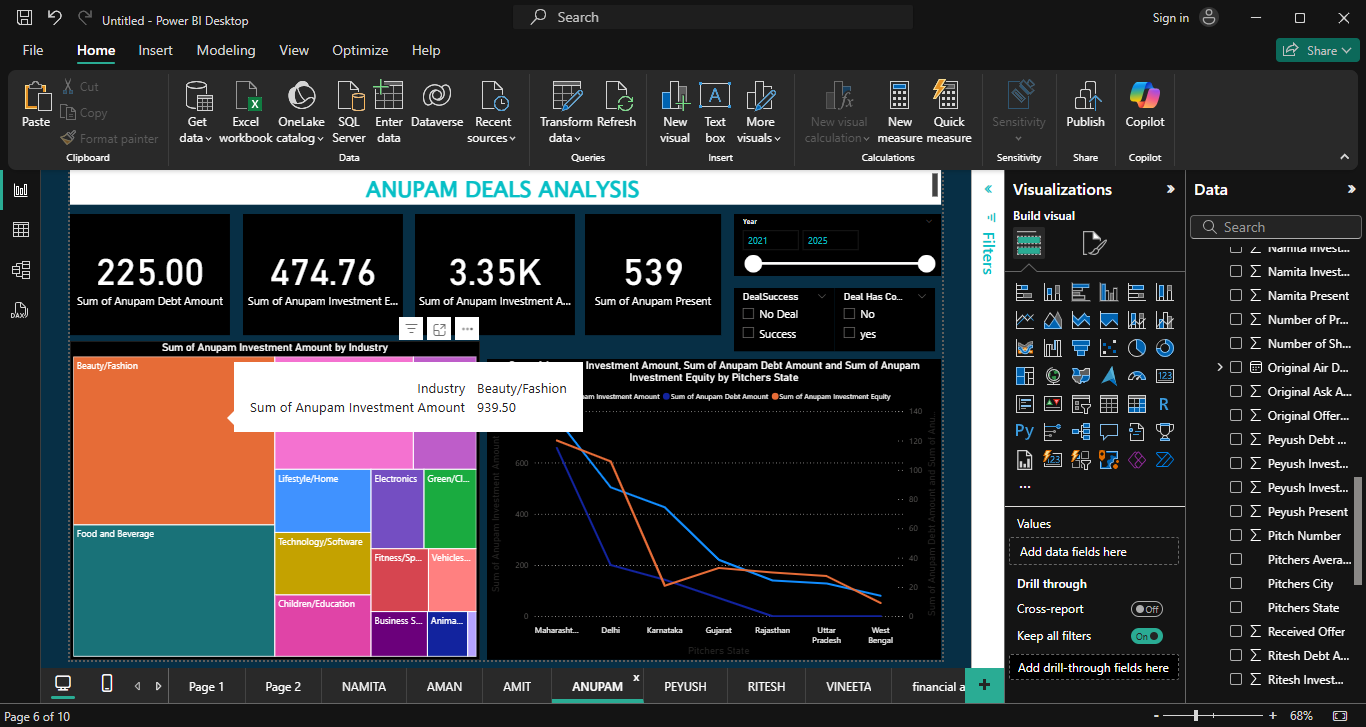

What the dashboard file says about the page in this screenshot:
{"tool":"powerbi","page":{"name":"ANUPAM","canvas":[1280,720],"ordinal":5},"visuals":[{"type":"card","fields":{"Values":["Sum(Shark_Tank_India_Cleaned.Anupam Debt Amount)"]},"box":[0,64.7,235.1,177.8],"z":0},{"type":"card","fields":{"Values":["Sum(Shark_Tank_India_Cleaned.Anupam Investment Equity)"]},"box":[254.2,64.7,235.1,177.8],"z":1000},{"type":"card","fields":{"Values":["Sum(Shark_Tank_India_Cleaned.Anupam Investment Amount)"]},"box":[506.9,64.7,235.1,177.8],"z":2000},{"type":"card","fields":{"Values":["Sum(Shark_Tank_India_Cleaned.Anupam Present)"]},"box":[756.7,64.7,199.8,177.8],"z":3000},{"type":"slicer","fields":{"Values":["Shark_Tank_India_Cleaned.Year"]},"box":[975.7,64.7,304.2,89.6],"z":4000},{"type":"textbox","box":[0,0,1279.8,51.4],"z":5000},{"type":"treemap","fields":{"Group":["Shark_Tank_India_Cleaned.Industry"],"Values":["Sum(Shark_Tank_India_Cleaned.Anupam Investment Amount)"]},"box":[0,251.3,602.4,468.7],"z":6000},{"type":"slicer","fields":{"Values":["Shark_Tank_India_Cleaned.DealSuccess"]},"box":[975.7,173.4,148.4,92.6],"z":7000},{"type":"slicer","fields":{"Values":["Shark_Tank_India_Cleaned.Deal Has Conditions"]},"box":[1124.1,173.4,146.9,92.6],"z":8000},{"type":"lineChart","fields":{"Y":["Sum(Shark_Tank_India_Cleaned.Anupam Investment Amount)"],"Y2":["Sum(Shark_Tank_India_Cleaned.Anupam Debt Amount)","Sum(Shark_Tank_India_Cleaned.Anupam Investment Equity)"],"Category":["Shark_Tank_India_Cleaned.Pitchers State"]},"box":[612.7,277.7,667.1,442.3],"z":9000}]}

Visuals, with their boxes on the page's 1280x720 design canvas (x1, y1, x2, y2). These are canvas units, not pixel positions in the 1366x727 screenshot, which may show the page scaled, cropped or inside an application window:
card - Sum(Shark_Tank_India_Cleaned.Anupam Debt Amount): Rect(0, 65, 235, 242)
card - Sum(Shark_Tank_India_Cleaned.Anupam Investment Equity): Rect(254, 65, 489, 242)
card - Sum(Shark_Tank_India_Cleaned.Anupam Investment Amount): Rect(507, 65, 742, 242)
card - Sum(Shark_Tank_India_Cleaned.Anupam Present): Rect(757, 65, 956, 242)
slicer - Shark_Tank_India_Cleaned.Year: Rect(976, 65, 1280, 154)
textbox: Rect(0, 0, 1280, 51)
treemap - Shark_Tank_India_Cleaned.Industry x Sum(Shark_Tank_India_Cleaned.Anupam Investment Amount): Rect(0, 251, 602, 720)
slicer - Shark_Tank_India_Cleaned.DealSuccess: Rect(976, 173, 1124, 266)
slicer - Shark_Tank_India_Cleaned.Deal Has Conditions: Rect(1124, 173, 1271, 266)
lineChart - Sum(Shark_Tank_India_Cleaned.Anupam Investment Amount) x Sum(Shark_Tank_India_Cleaned.Anupam Debt Amount): Rect(613, 278, 1280, 720)
